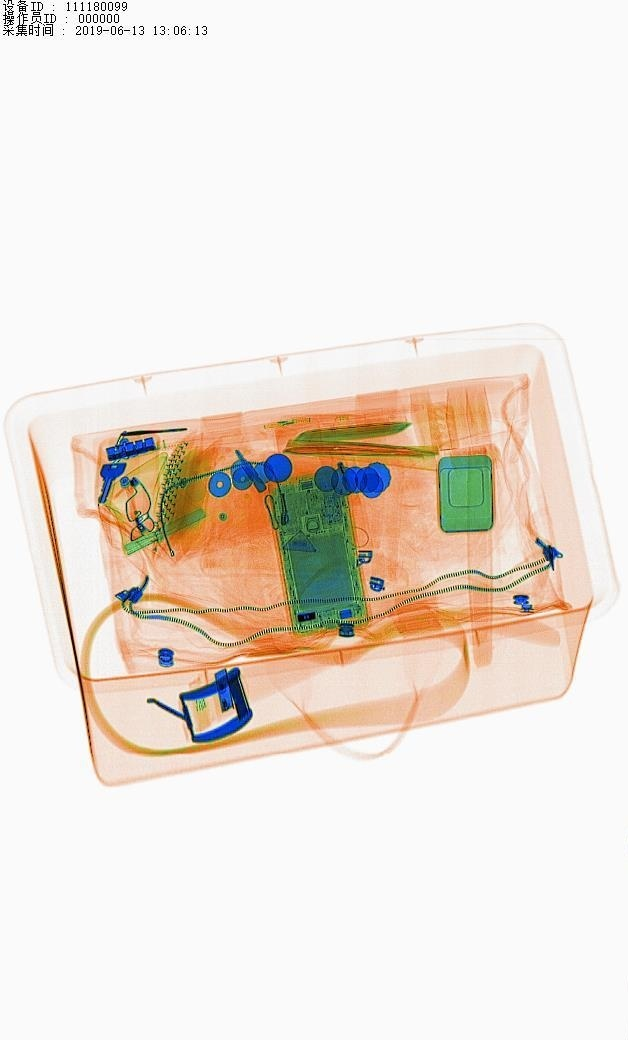NonmetallicFire: (309, 405, 375, 515)
